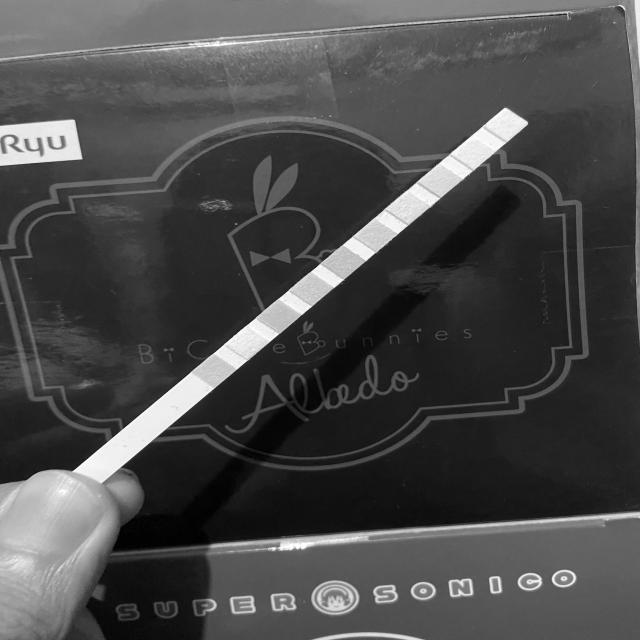Bilirubin: (233, 336, 262, 349)
Blood: (330, 256, 358, 269)
Glucose: (200, 364, 229, 377)
Ketone: (264, 310, 293, 323)
Leukocytes: (493, 118, 522, 131)
Nitrite: (459, 146, 487, 158)
Protein: (394, 201, 422, 214)
SpGravity: (298, 282, 327, 295)
Urobilinogen: (426, 174, 454, 187)
background: (0, 0, 640, 640)
pH: (361, 228, 390, 242)
strip: (76, 108, 529, 483)
